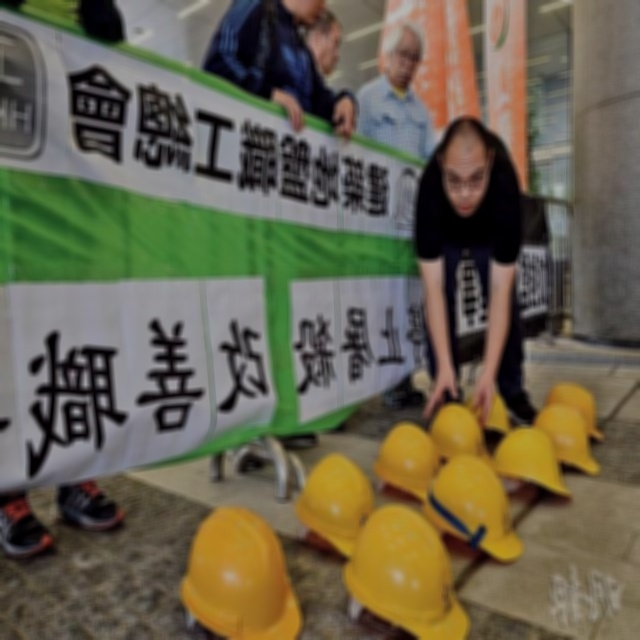Sin_Casco_Mascarrilla: (441, 118, 491, 214), (385, 21, 424, 88)
